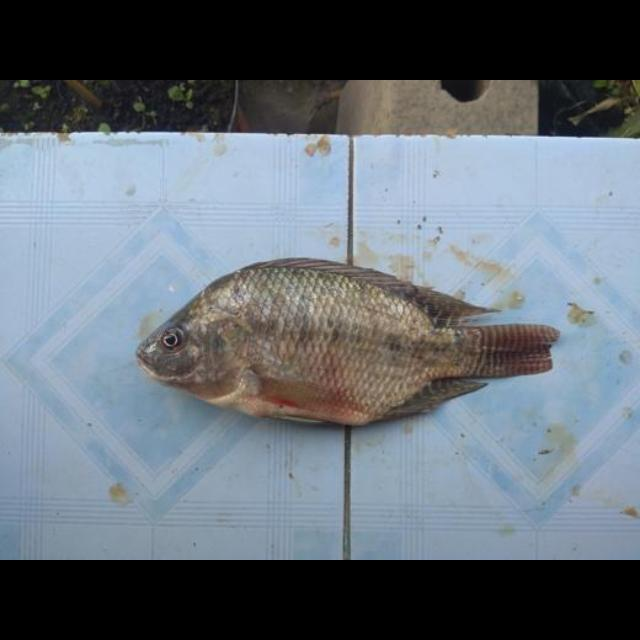Tilapia: (138, 257, 560, 429)
